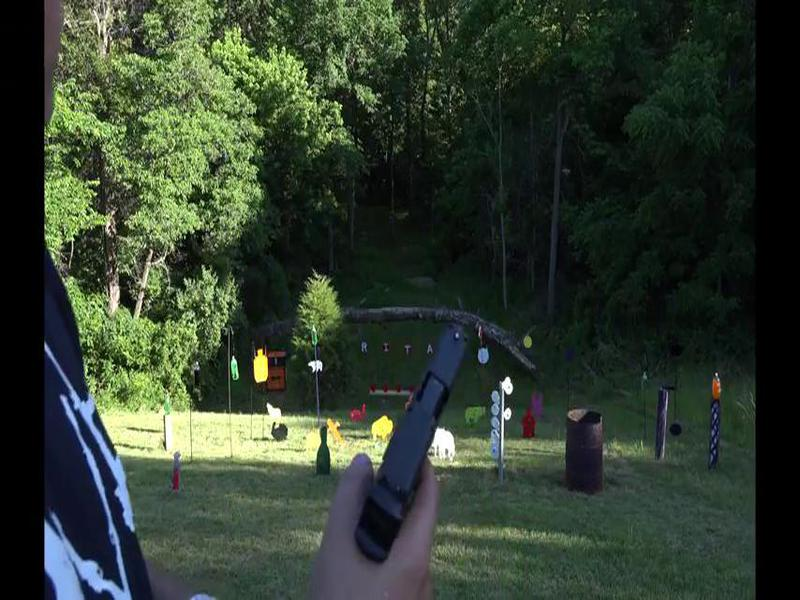Pistola: (351, 305, 498, 572)
